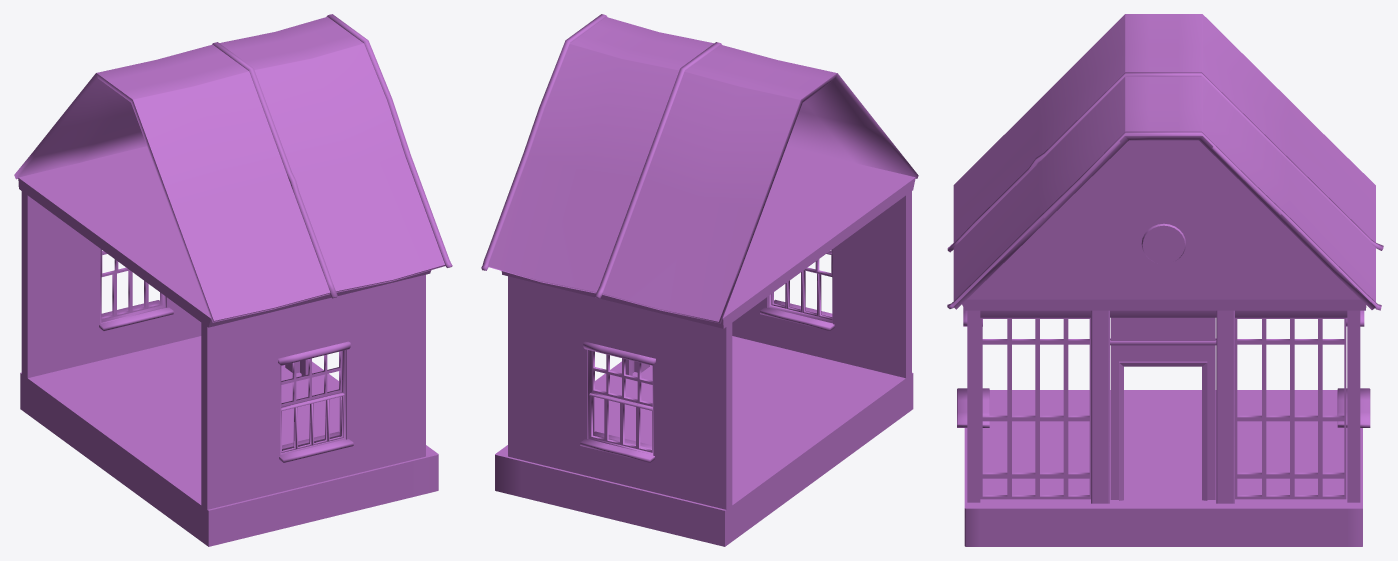
Rendered from BrickHouse_Ext_B.fbx.
3 renders of one model, left to right at view 1: azimuth 30°, elevation 25°; view 2: azimuth 150°, elevation 25°; view 3: azimuth 270°, elevation 25°, orthographic. The views are drawn at different scales.
Visible parts, largest first — view 1: BrickHouse_Ext_B; view 2: BrickHouse_Ext_B; view 3: BrickHouse_Ext_B.
Boxes of the visible parts, x1=… form: BrickHouse_Ext_B: x1=14, y1=14, x2=452, y2=546; BrickHouse_Ext_B: x1=481, y1=14, x2=918, y2=546; BrickHouse_Ext_B: x1=947, y1=14, x2=1383, y2=546.
Bounding box in the file's own units: 7.07 × 11.16 × 10.61.
